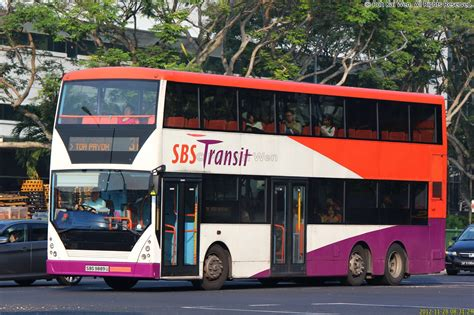bus: (51, 70, 446, 282)
car: (1, 221, 46, 284), (446, 223, 474, 276)
person: (83, 190, 105, 209), (283, 112, 301, 134), (319, 116, 335, 137), (322, 207, 340, 223)
